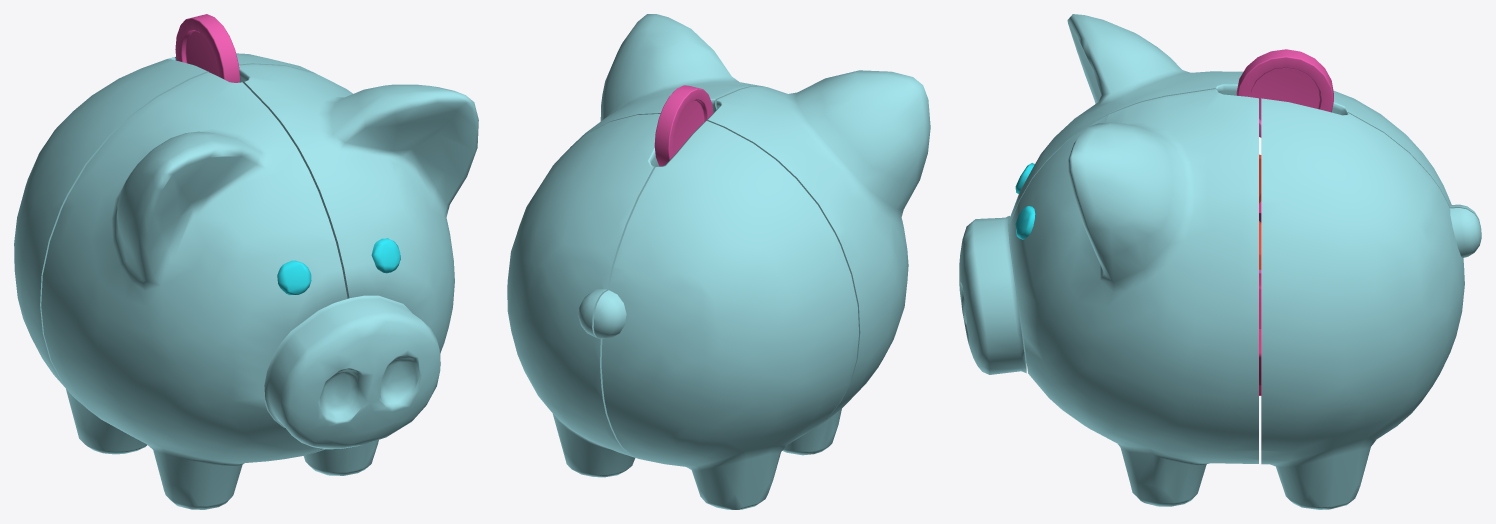
Rendered from level_199.fbx.
3 renders of one model, left to right at view 1: azimuth 30°, elevation 25°; view 2: azimuth 150°, elevation 25°; view 3: azimuth 270°, elevation 25°, orthographic. The views are drawn at different scales.
Visible parts, largest first — view 1: Cube_L1, Cube_L1_2, Cube_L1_1, Cube_L2, Cube_L3_7, Cube_L2_1; view 2: Cube_L2, Cube_L1, Cube_L2_1, Cube_L1_2, Cube_L3_7; view 3: Cube_L1_2, Cube_L2_1, Cube_L1, Cube_L1_1, Cube_L3_7, Cube_L2.
Part boxes in pixels (<box>): Cube_L1: <box>41,72,347,509</box>; Cube_L1_2: <box>239,64,478,475</box>; Cube_L1_1: <box>264,295,440,449</box>; Cube_L2: <box>14,57,208,454</box>; Cube_L3_7: <box>175,14,240,82</box>; Cube_L2_1: <box>175,53,315,73</box>; Cube_L2: <box>593,121,858,509</box>; Cube_L1: <box>706,70,930,455</box>; Cube_L2_1: <box>507,114,660,477</box>; Cube_L1_2: <box>565,14,765,152</box>; Cube_L3_7: <box>654,85,713,166</box>; Cube_L1_2: <box>1009,89,1258,506</box>; Cube_L2_1: <box>1261,98,1481,509</box>; Cube_L1: <box>1009,14,1243,223</box>; Cube_L1_1: <box>959,216,1026,374</box>; Cube_L3_7: <box>1236,49,1333,137</box>; Cube_L2: <box>1332,90,1481,259</box>.
Bounding box in the file's own units: 14.61 × 16.05 × 18.54.
